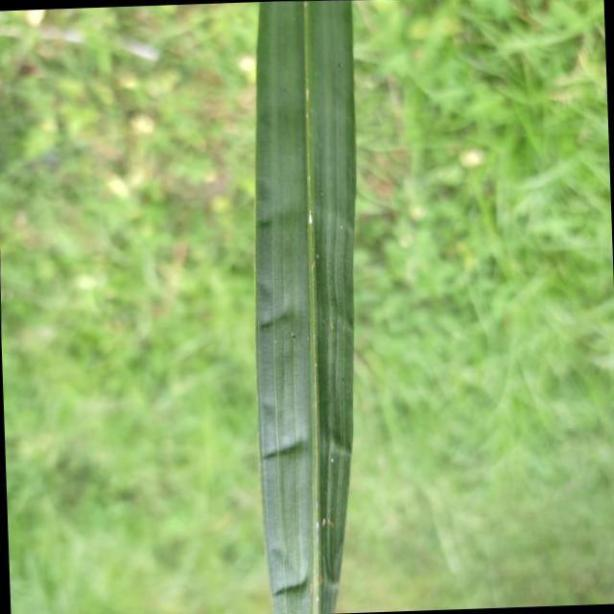Boron: (252, 0, 360, 614)
